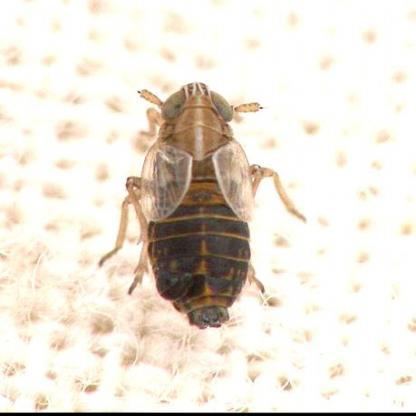brown-planthopper: (132, 78, 262, 331)
